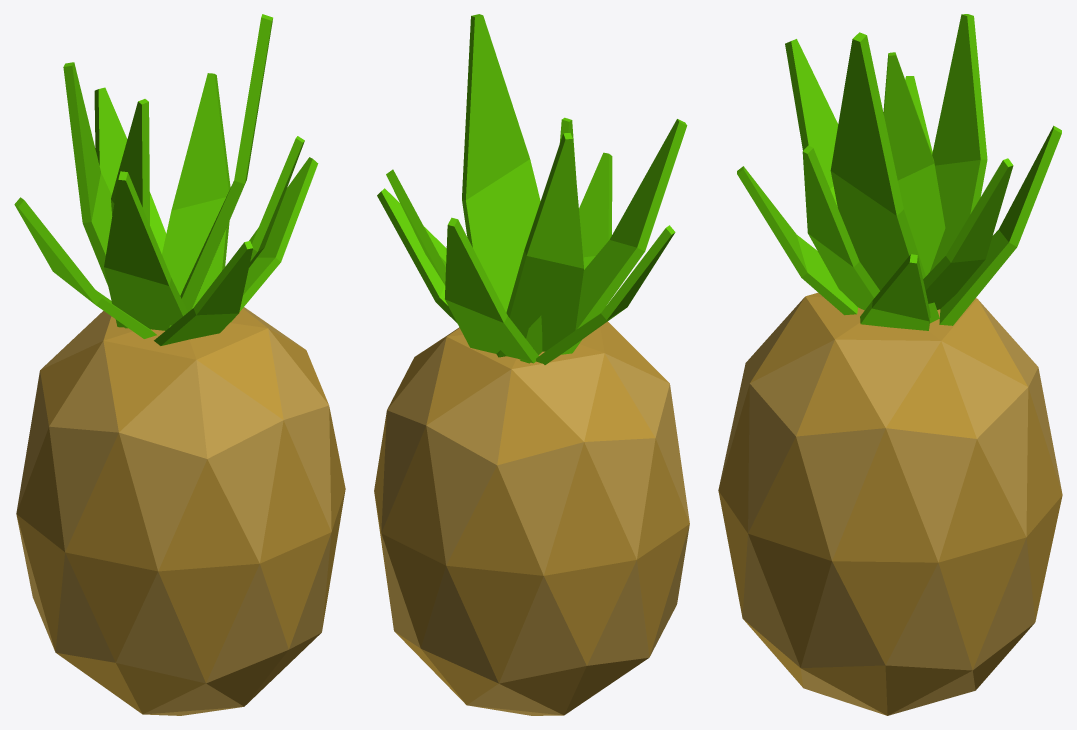
File: pineapple.fbx
3 views of the same model, side by side, from view 1: azimuth 30°, elevation 25°; view 2: azimuth 150°, elevation 25°; view 3: azimuth 270°, elevation 25° (orthographic). The views are drawn at different scales.
Visible parts, largest first — view 1: pineapple, leaf; view 2: pineapple, leaf; view 3: pineapple, leaf.
Boxes of the visible parts, x1=… form: pineapple: x1=16, y1=307, x2=345, y2=715; leaf: x1=14, y1=14, x2=318, y2=345; pineapple: x1=374, y1=321, x2=689, y2=715; leaf: x1=377, y1=14, x2=687, y2=364; pineapple: x1=718, y1=292, x2=1062, y2=715; leaf: x1=737, y1=14, x2=1061, y2=330.
Bounding box in the file's own units: 1.76 × 3.87 × 1.69.
